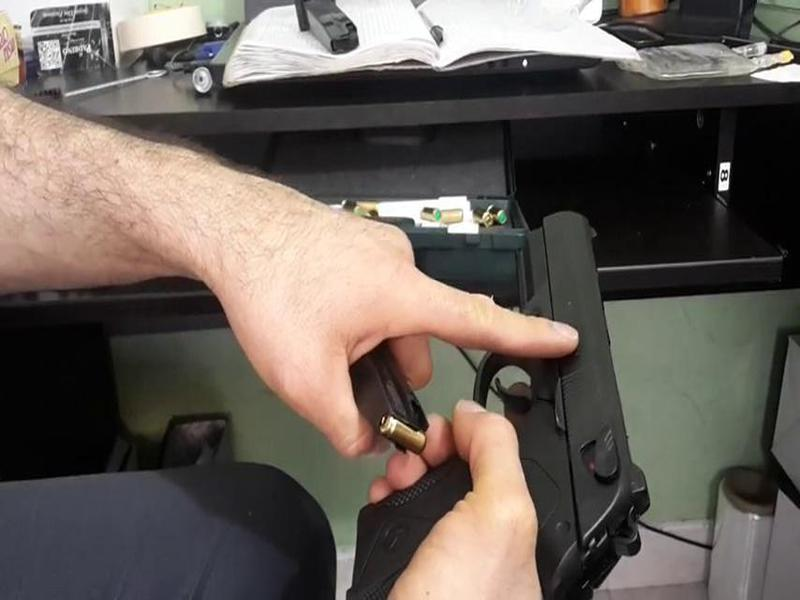Pistola: (422, 197, 649, 600)
